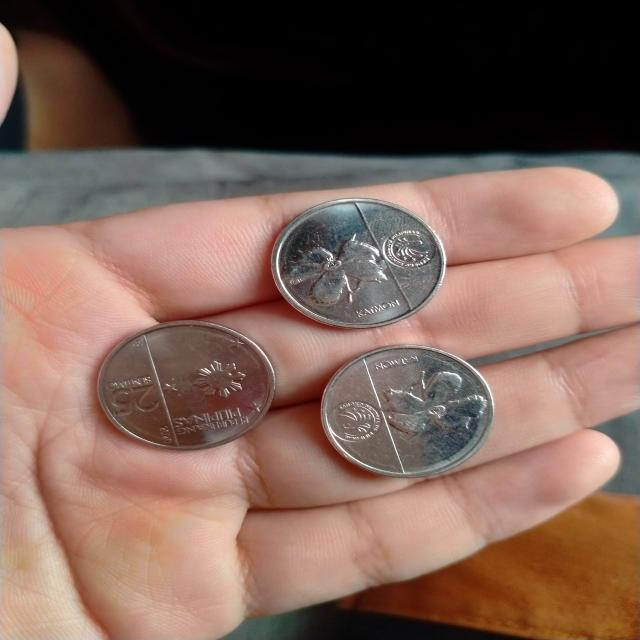25Cent_New_Back: (378, 362, 482, 439), (285, 238, 384, 311)
25Cent_New_Front: (106, 374, 172, 420)
